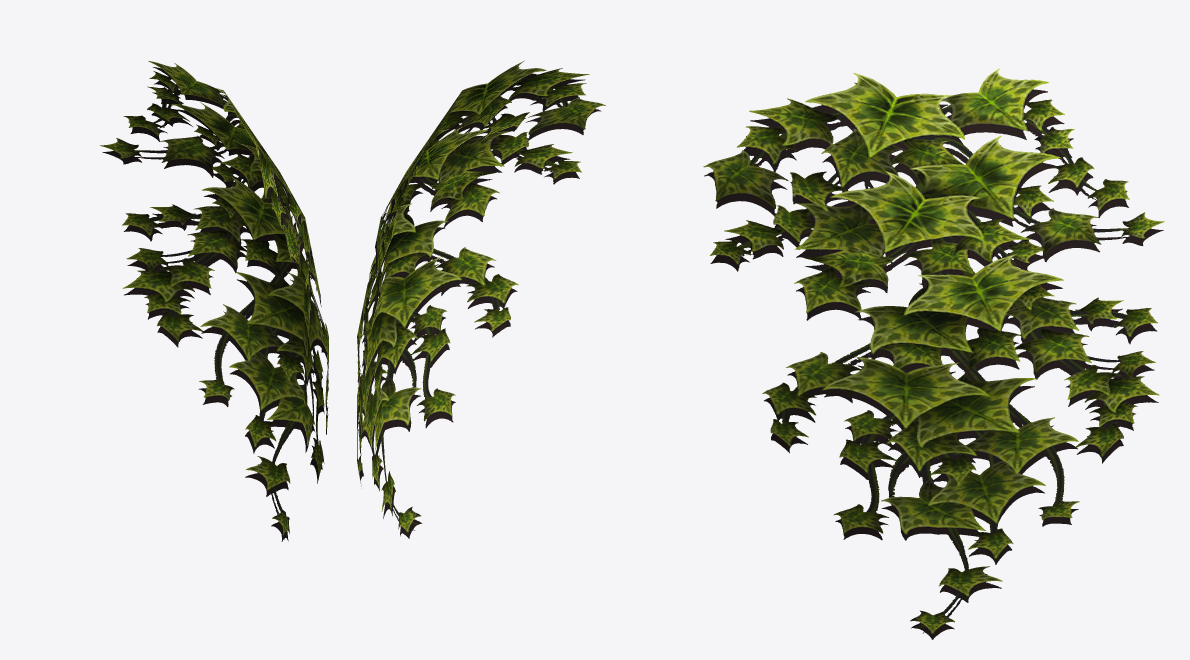
File: ivy.fbx
The picture shows the model from 3 angles, left to right: view 1: azimuth 30°, elevation 25°; view 2: azimuth 150°, elevation 25°; view 3: azimuth 270°, elevation 25°; orthographic projection. The views are drawn at different scales.
Parts seen in each view (by area): view 1: ivytest:Plane_14_, ivytest1:Plane_14_; view 2: ivytest1:Plane_14_, ivytest:Plane_14_; view 3: ivytest:Plane_14_, ivytest1:Plane_14_.
Boxes of the visible parts, left/top/right/bottom form: ivytest:Plane_14_: left=100, top=91, right=328, bottom=541; ivytest1:Plane_14_: left=100, top=61, right=328, bottom=538; ivytest1:Plane_14_: left=357, top=60, right=604, bottom=536; ivytest:Plane_14_: left=357, top=73, right=605, bottom=538; ivytest:Plane_14_: left=703, top=68, right=1164, bottom=639; ivytest1:Plane_14_: left=706, top=108, right=1131, bottom=638.
Size of the model in its own units: 2.45 by 6.32 by 4.99.
